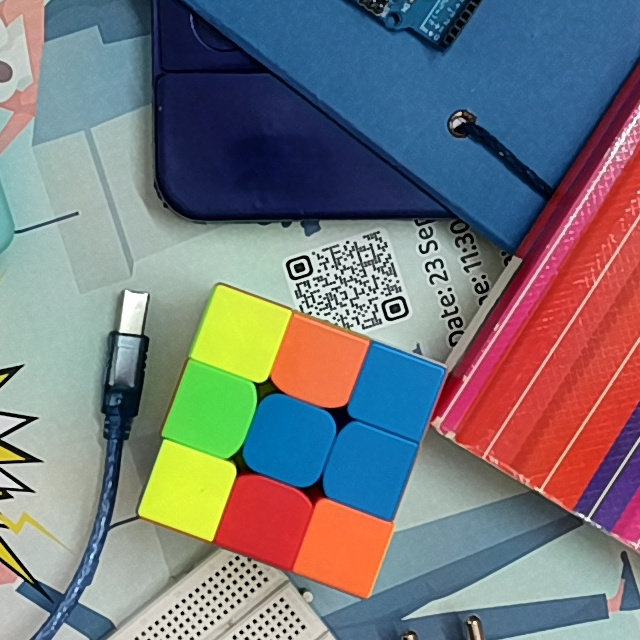tile: (314, 515, 372, 578), (233, 493, 294, 552), (260, 411, 319, 470), (341, 439, 398, 499), (160, 461, 218, 519), (367, 363, 426, 420), (183, 383, 242, 439), (212, 308, 270, 364), (290, 336, 345, 392)
